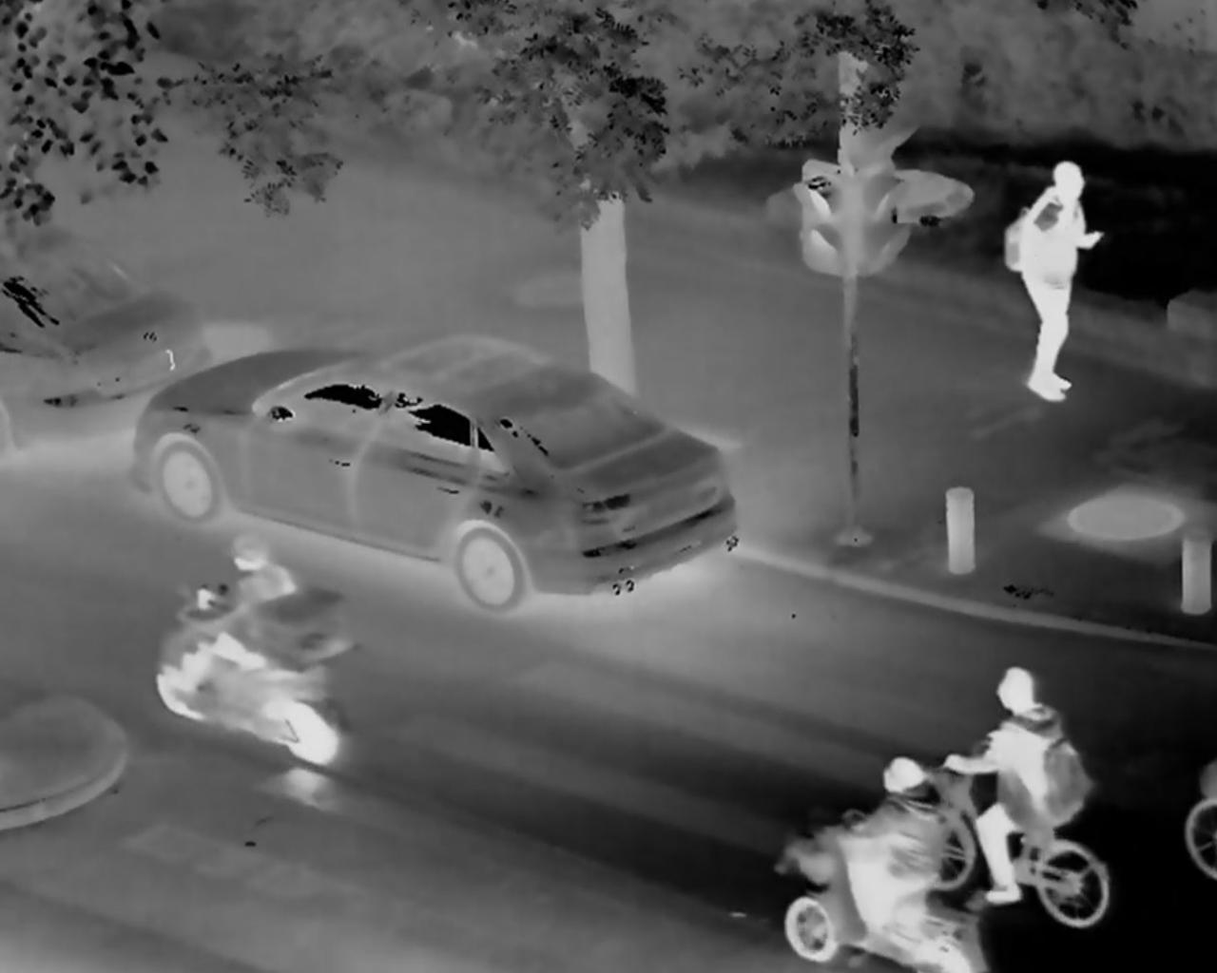person: (157, 532, 337, 769), (945, 658, 1081, 907), (807, 753, 968, 963), (995, 154, 1110, 422)
